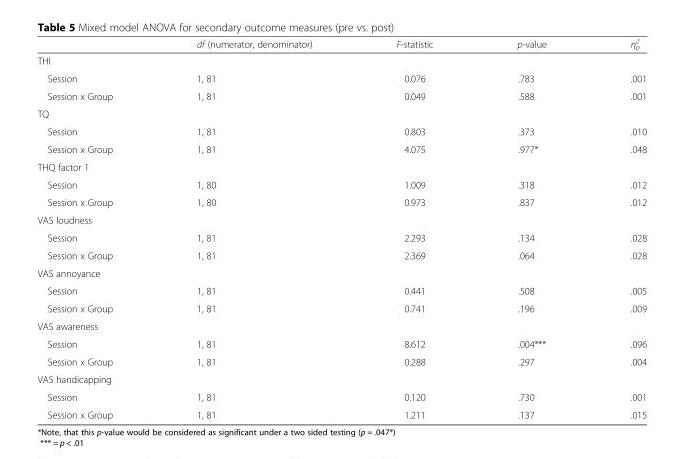table: (36, 36, 646, 420)
table column: (154, 36, 353, 420), (353, 36, 474, 420), (36, 36, 154, 420), (474, 36, 587, 420), (587, 36, 646, 420)
table column header: (36, 36, 646, 52)
table projected row header: (36, 104, 646, 122), (36, 157, 646, 175), (36, 210, 646, 228), (36, 263, 646, 281), (36, 52, 646, 69), (36, 317, 646, 334), (36, 370, 646, 387)
table row: (36, 86, 646, 104), (36, 104, 646, 122), (36, 122, 646, 140), (36, 157, 646, 175), (36, 175, 646, 193), (36, 210, 646, 228), (36, 228, 646, 246), (36, 263, 646, 281), (36, 281, 646, 299), (36, 299, 646, 317), (36, 334, 646, 352), (36, 352, 646, 370), (36, 387, 646, 405), (36, 52, 646, 69), (36, 69, 646, 86), (36, 140, 646, 157), (36, 193, 646, 210), (36, 246, 646, 263), (36, 317, 646, 334), (36, 370, 646, 387), (36, 36, 646, 52), (36, 405, 646, 420)
